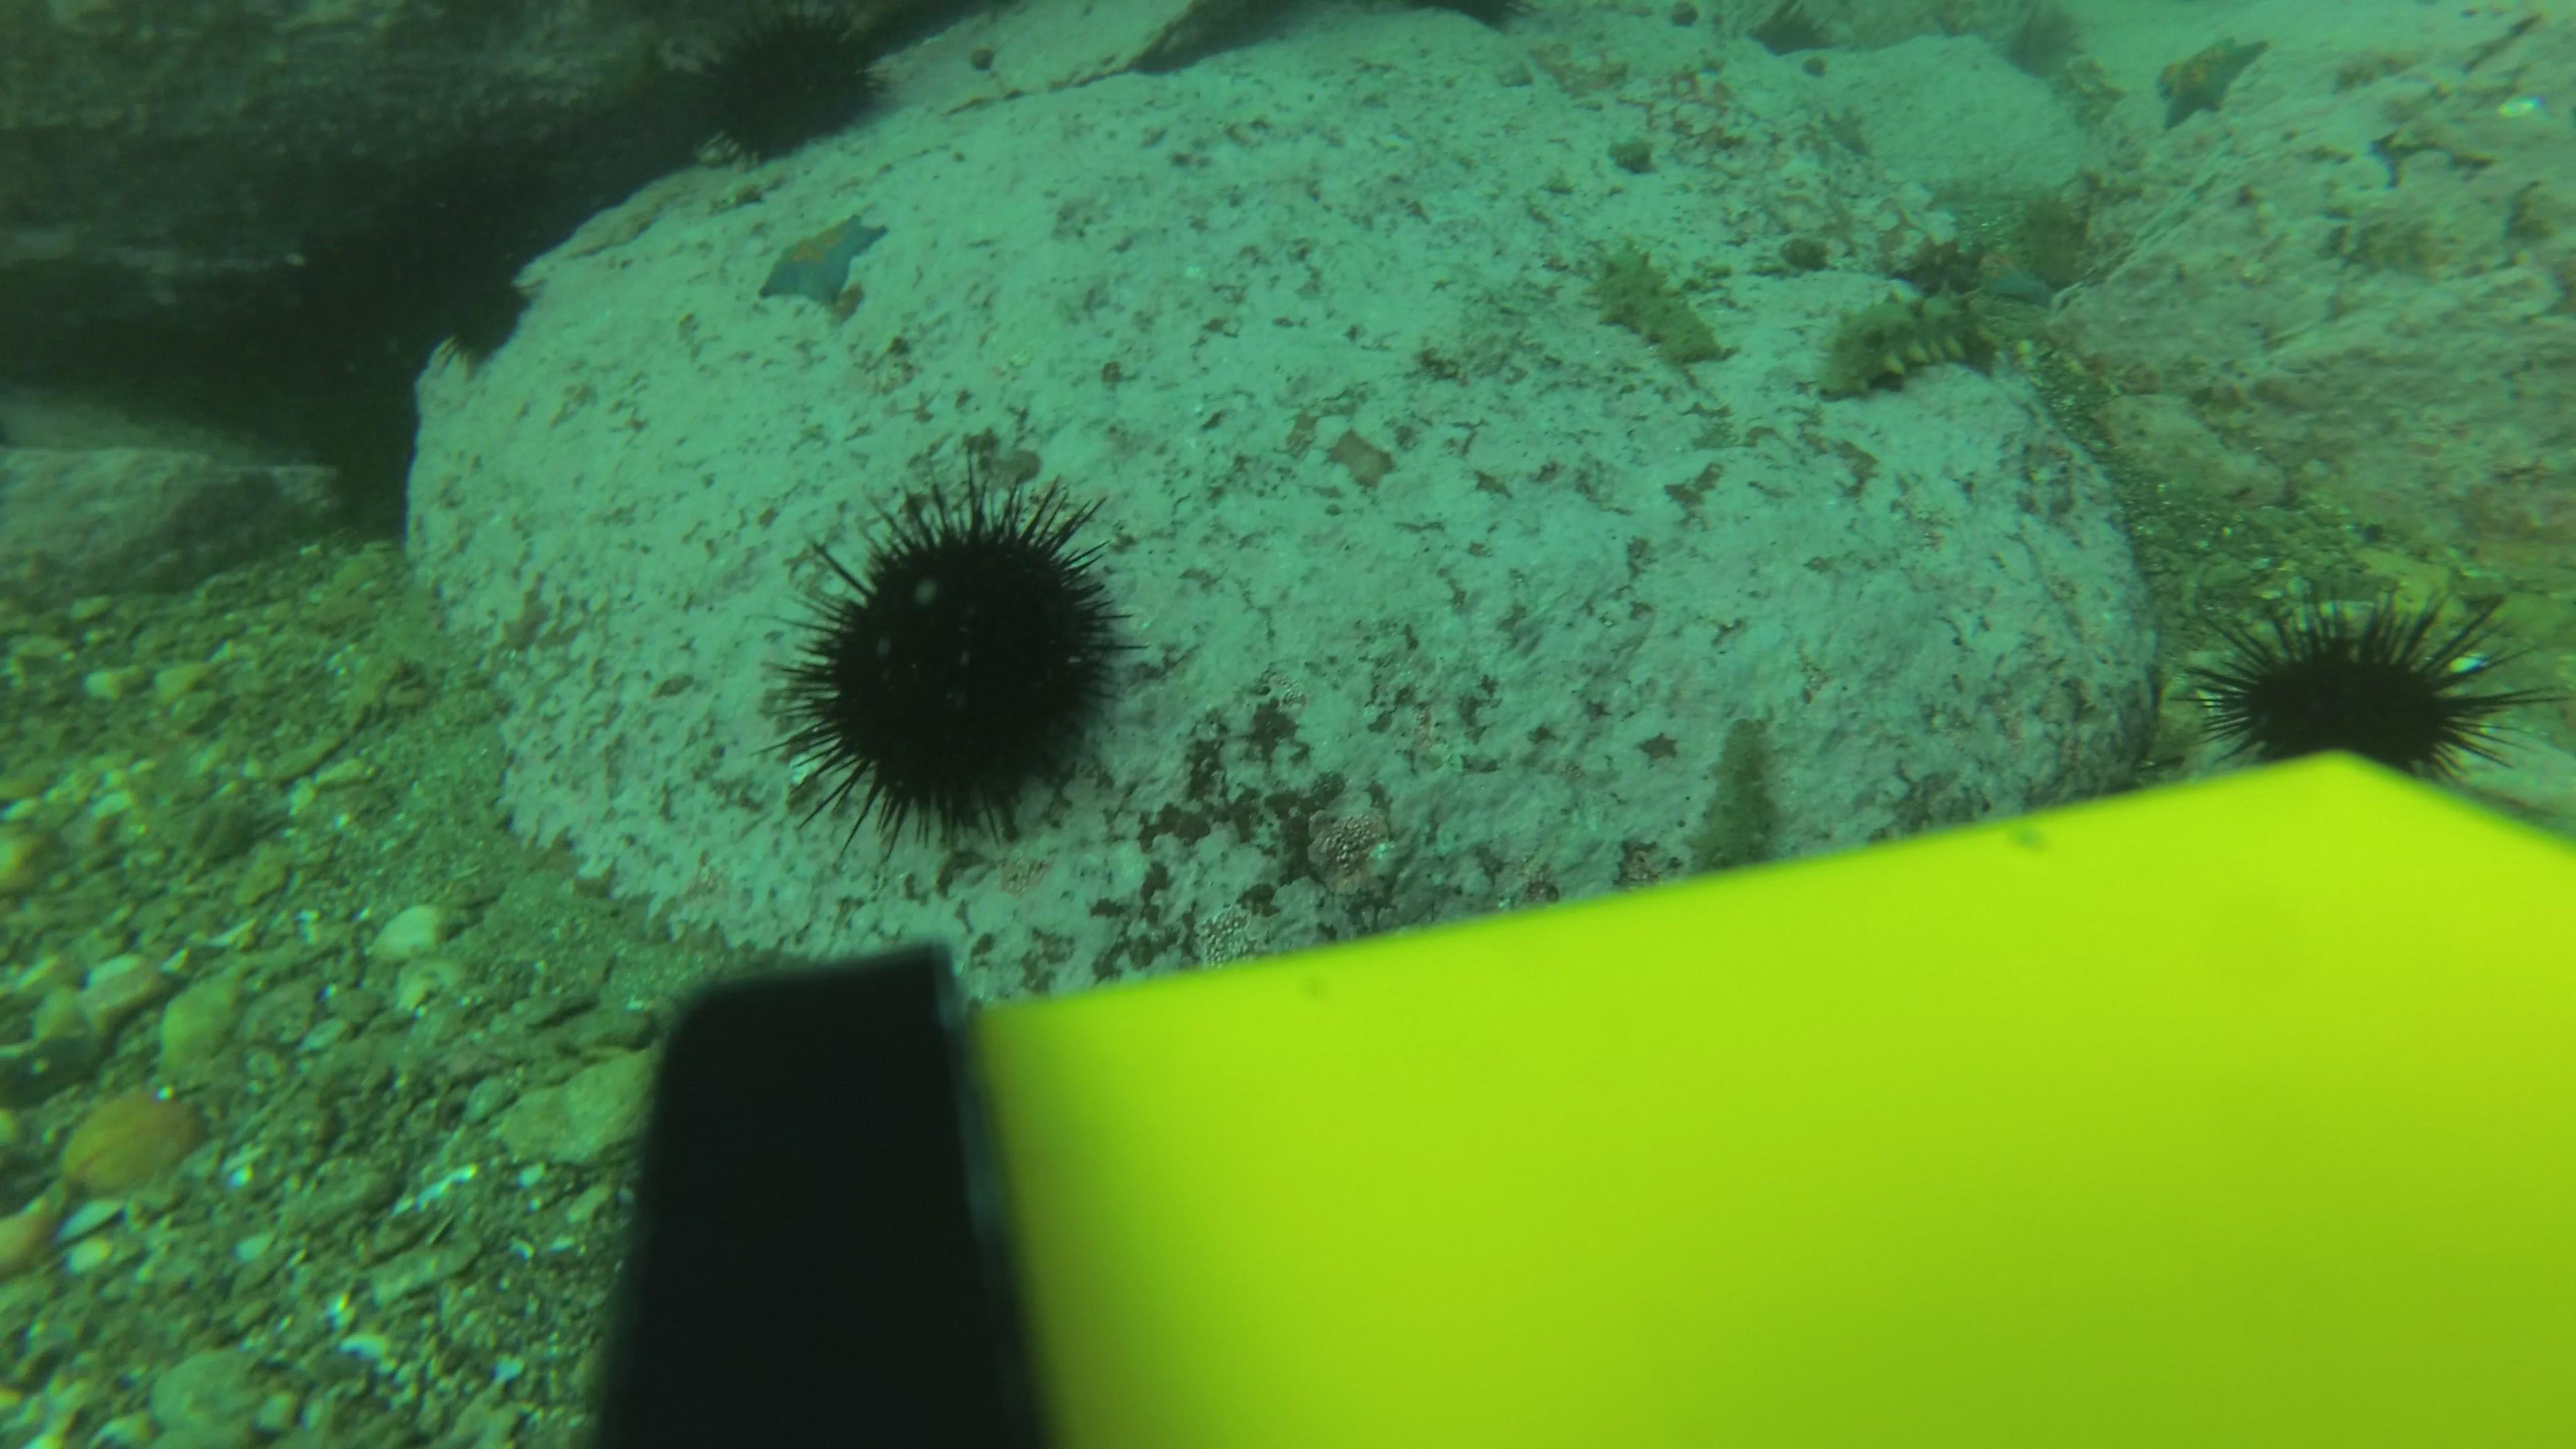urchin: (791, 474, 1157, 840), (2196, 589, 2555, 798), (685, 9, 893, 168), (437, 257, 545, 372)
